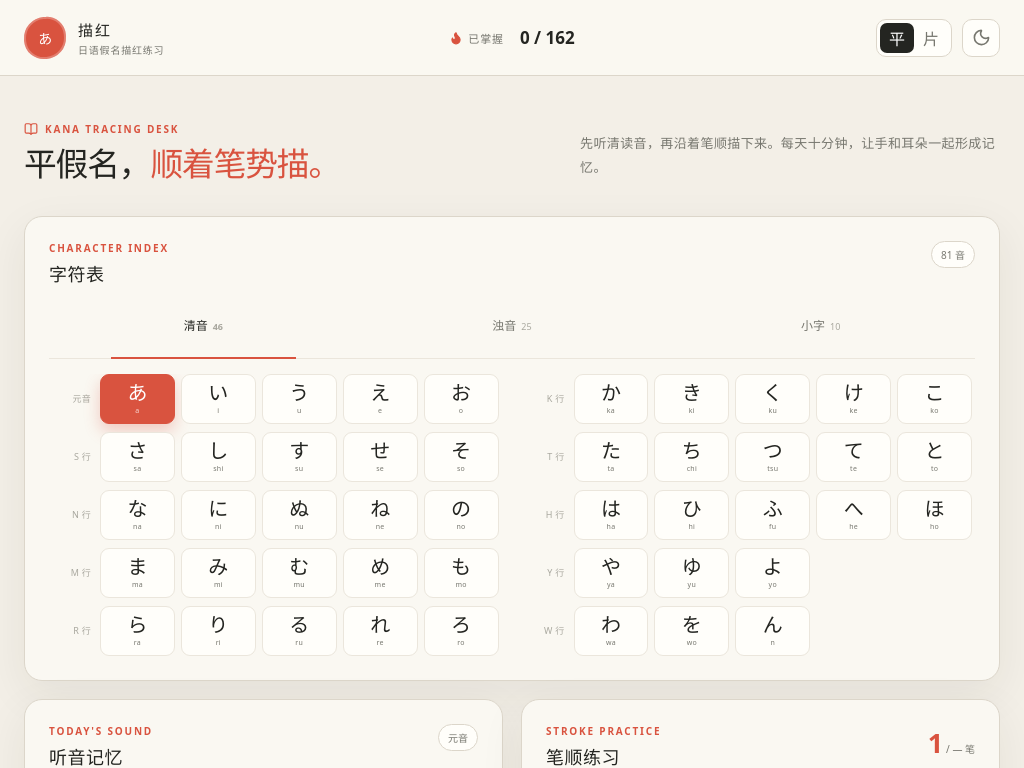
it: 描红 app › selects a kana from the character browser
Click the button with aria-label "选择 か ka". click: click(611, 399)
box: [574,374,648,424]
(page scrolled)
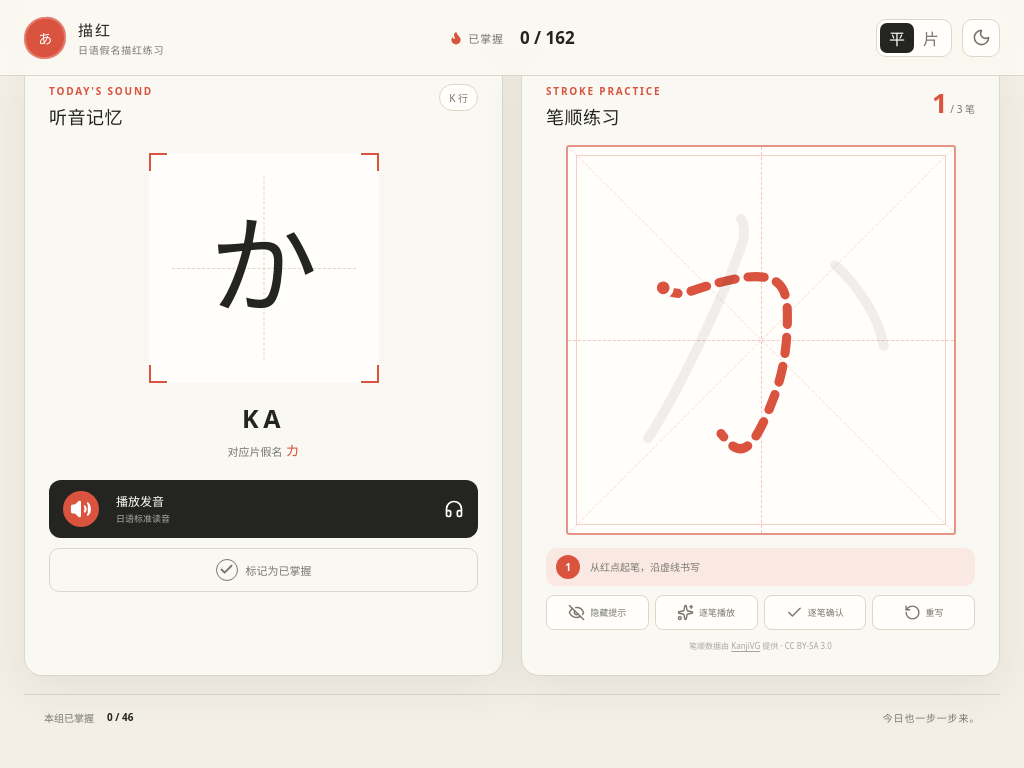
Check: the text with test id "focus-character" reads "か", box [210,190,318,337]
Check: the text "KA" is shown, box [242,401,285,435]
